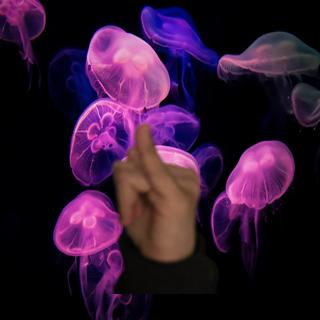HAVE: (101, 116, 213, 262)
